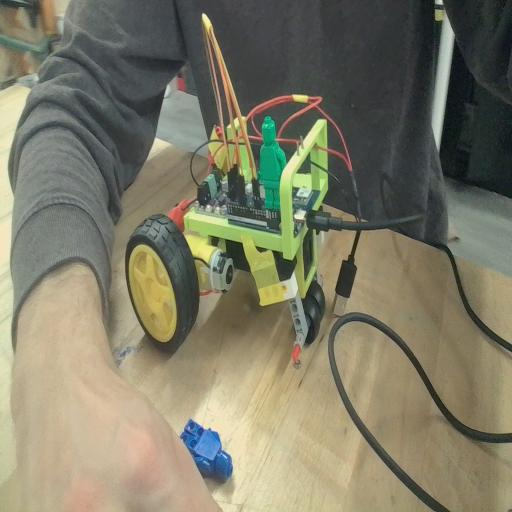blue LEGO minifig: (178, 411, 237, 488)
green LEGO minifig: (257, 114, 290, 227)
